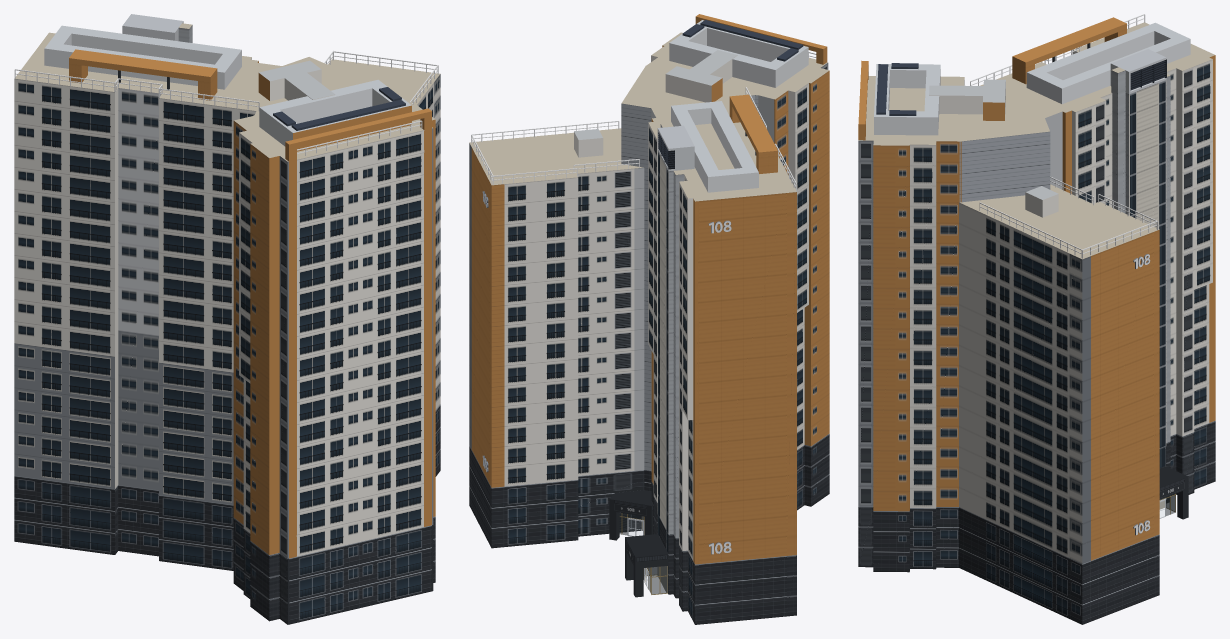
File: place_금파힐108up.glb
3 renders of one model, left to right at view 1: azimuth 30°, elevation 25°; view 2: azimuth 150°, elevation 25°; view 3: azimuth 270°, elevation 25°, orthographic. The views are drawn at different scales.
Parts seen in each view (by area): view 1: WingA_NW_21F, WingC_South_21F, WingB_NE_18F_164sqm, KumhoParkHills_108_UpperOnly; view 2: WingA_NW_21F, WingB_NE_18F_164sqm, WingC_South_21F, KumhoParkHills_108_UpperOnly; view 3: WingB_NE_18F_164sqm, WingC_South_21F, WingA_NW_21F, KumhoParkHills_108_UpperOnly.
Boxes of the visible parts, x1,y1,x2,y2 form: WingA_NW_21F: (14, 14, 281, 570); WingC_South_21F: (233, 60, 435, 624); WingB_NE_18F_164sqm: (324, 50, 440, 476); KumhoParkHills_108_UpperOnly: (246, 57, 367, 119); WingA_NW_21F: (625, 87, 796, 624); WingB_NE_18F_164sqm: (469, 121, 644, 548); WingC_South_21F: (646, 14, 829, 510); KumhoParkHills_108_UpperOnly: (609, 65, 767, 540); WingB_NE_18F_164sqm: (959, 176, 1159, 624); WingC_South_21F: (858, 60, 1005, 572); WingA_NW_21F: (970, 14, 1215, 519); KumhoParkHills_108_UpperOnly: (959, 81, 1050, 202).
Bounding box in the file's own units: 49.35 × 58.6 × 42.23.
Materials: 138 (84 with a texture image).
